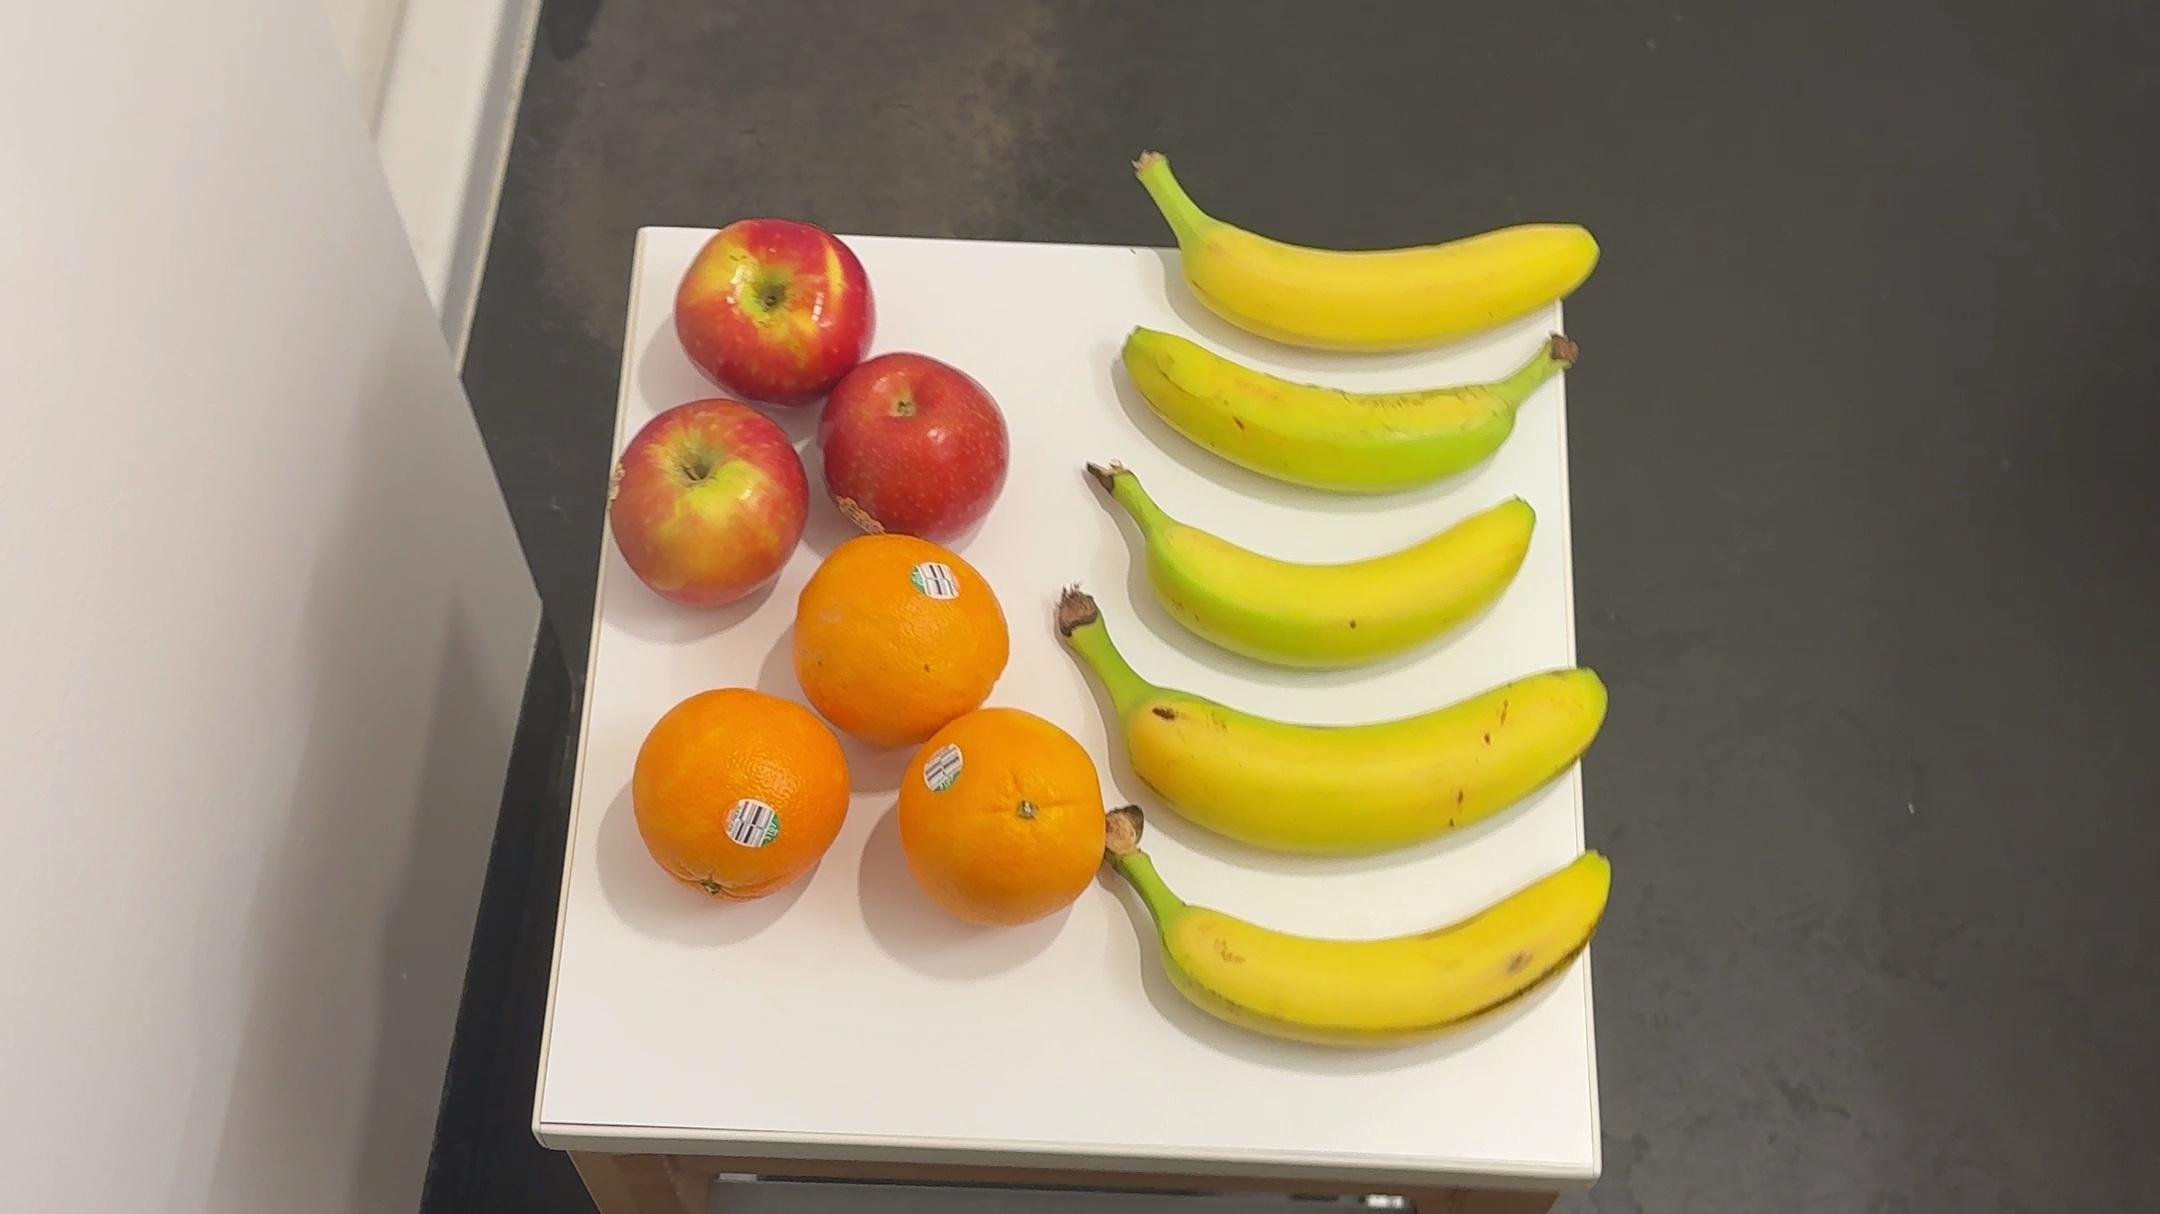apple: (599, 398, 809, 611), (817, 358, 1018, 560), (674, 217, 878, 402)
banana: (1043, 585, 1629, 859), (1084, 790, 1627, 1067), (1087, 453, 1567, 689), (1127, 135, 1617, 355), (1107, 324, 1589, 506)
orange: (630, 686, 849, 928), (785, 543, 1010, 747), (898, 711, 1104, 931)
